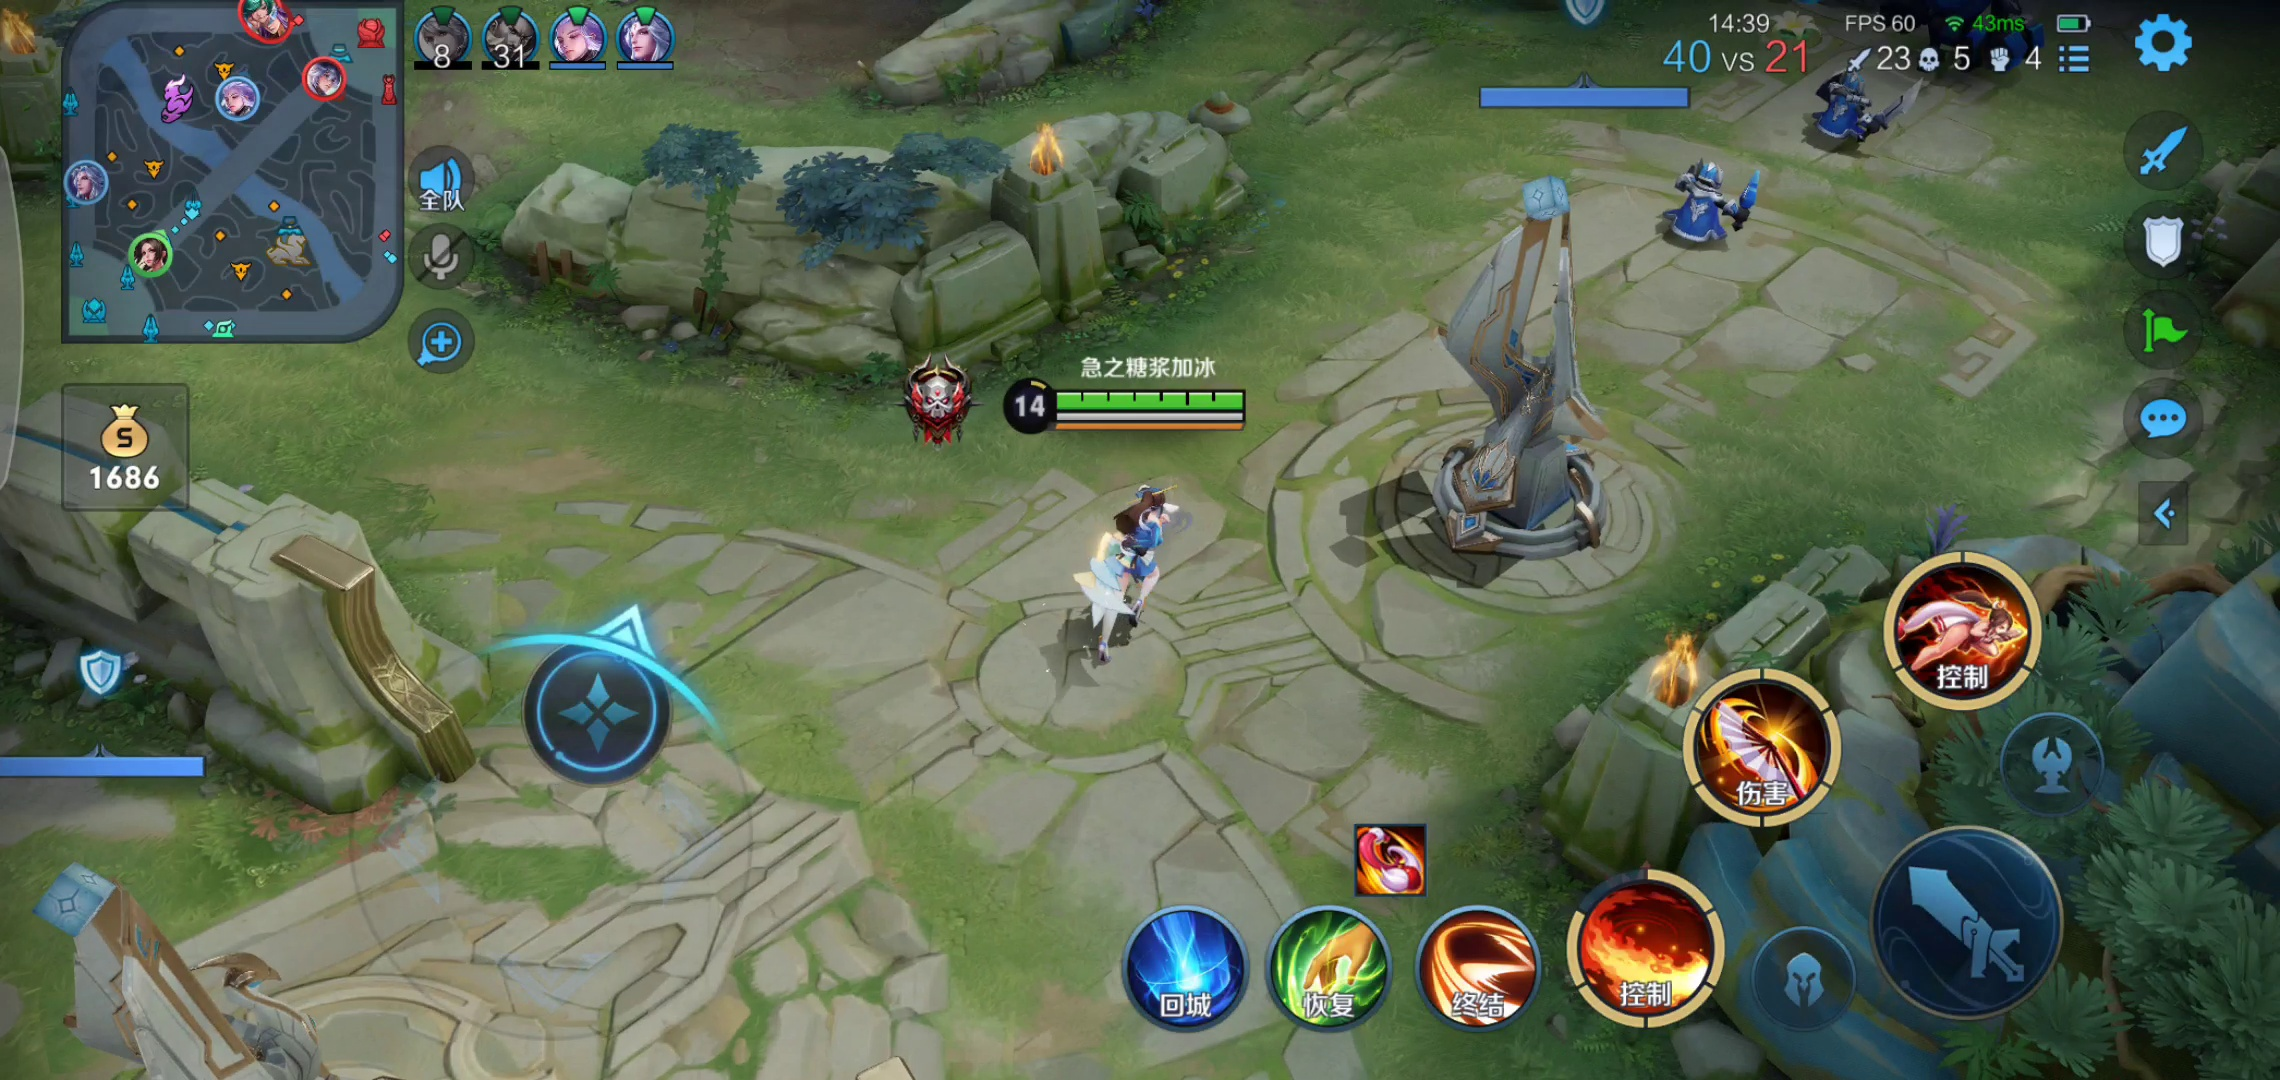hero: (1050, 467, 1192, 682)
soldier: (1647, 142, 1771, 253), (1802, 65, 1902, 166)
tower: (1408, 167, 1626, 565), (19, 855, 349, 1079)
